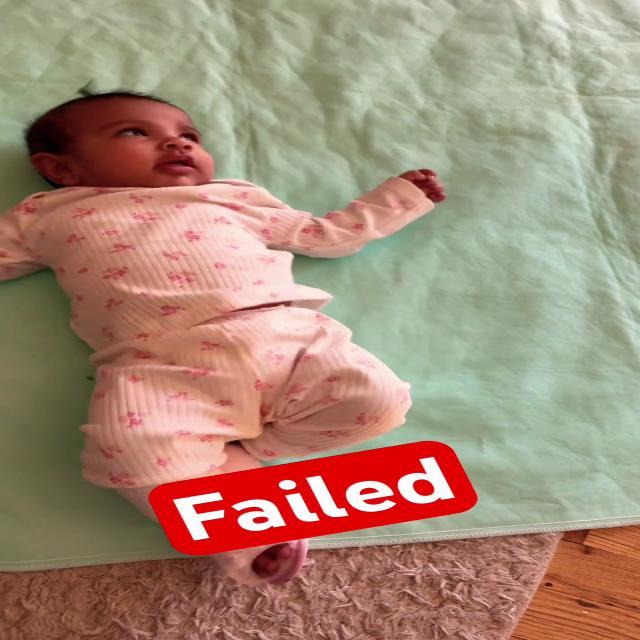baby: (0, 89, 466, 591)
